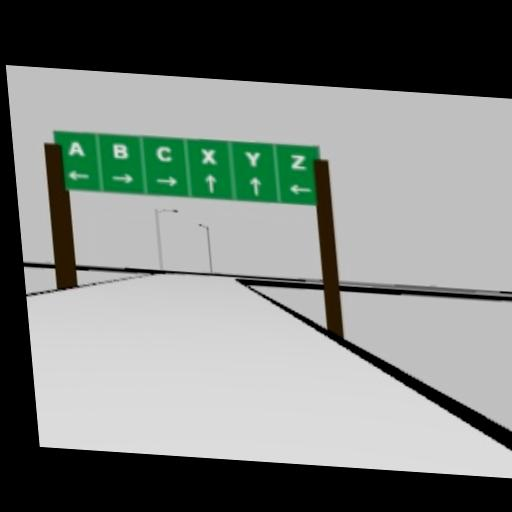A: (66, 141, 83, 156)
B: (112, 142, 129, 159)
C: (154, 144, 173, 162)
Left: (65, 168, 91, 181), (288, 183, 312, 195)
Right: (111, 171, 135, 183), (155, 174, 177, 186)
Straight: (247, 175, 261, 195), (204, 172, 218, 192)
X: (200, 148, 217, 165)
Y: (243, 150, 260, 165)
Z: (289, 153, 306, 171)
